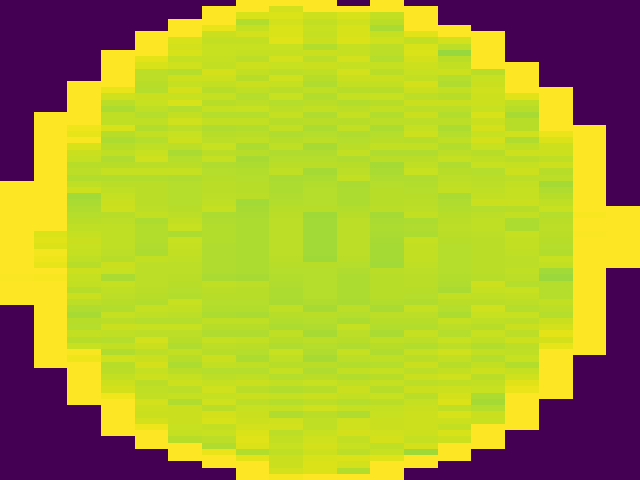sphere: (3, 2, 640, 480)
